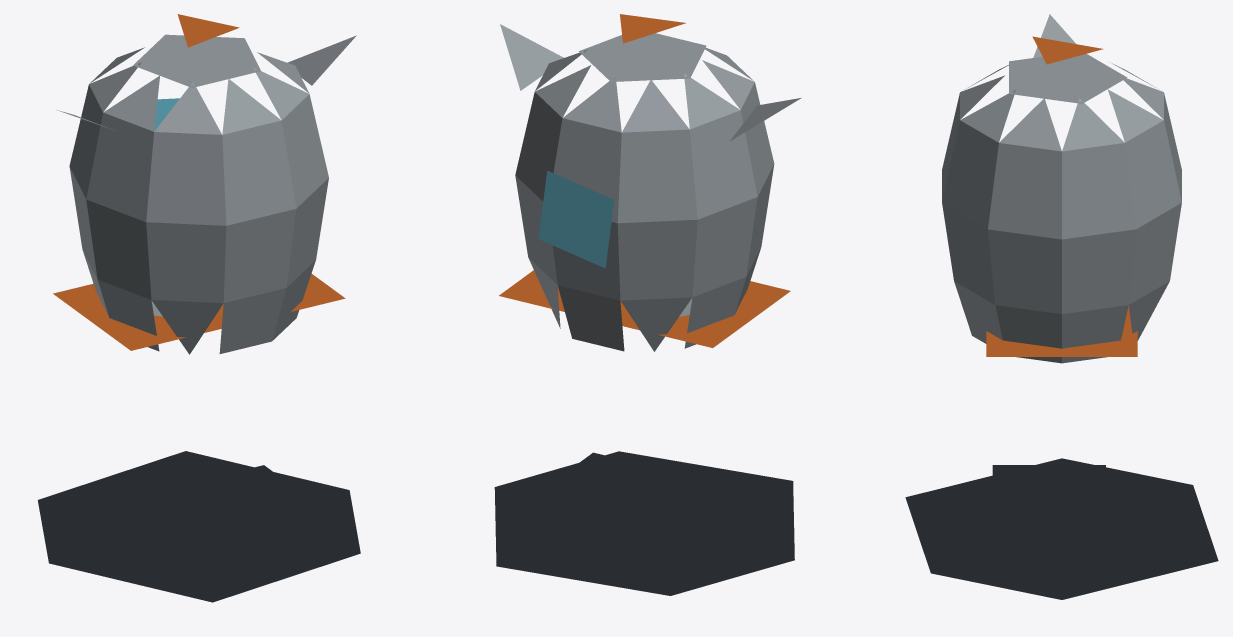
Rendered from stabilizer-suit.lod.glb.
The picture shows the model from 3 angles, left to right: view 1: azimuth 30°, elevation 25°; view 2: azimuth 150°, elevation 25°; view 3: azimuth 270°, elevation 25°; orthographic projection. The views are drawn at different scales.
Visible parts, largest first — view 1: m; view 2: m; view 3: m.
Boxes of the visible parts, <box> form: m: <box>37,14,360,602</box>; m: <box>494,14,801,595</box>; m: <box>905,14,1218,599</box>.
Size of the model in its own units: 0.3318 by 0.4248 by 0.2398.
